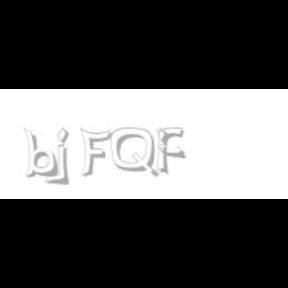F: (79, 128, 111, 178)
Q: (111, 128, 157, 178)
b: (23, 128, 61, 178)
c: (158, 128, 188, 160)
i: (156, 128, 172, 176)
j: (54, 128, 84, 186)
